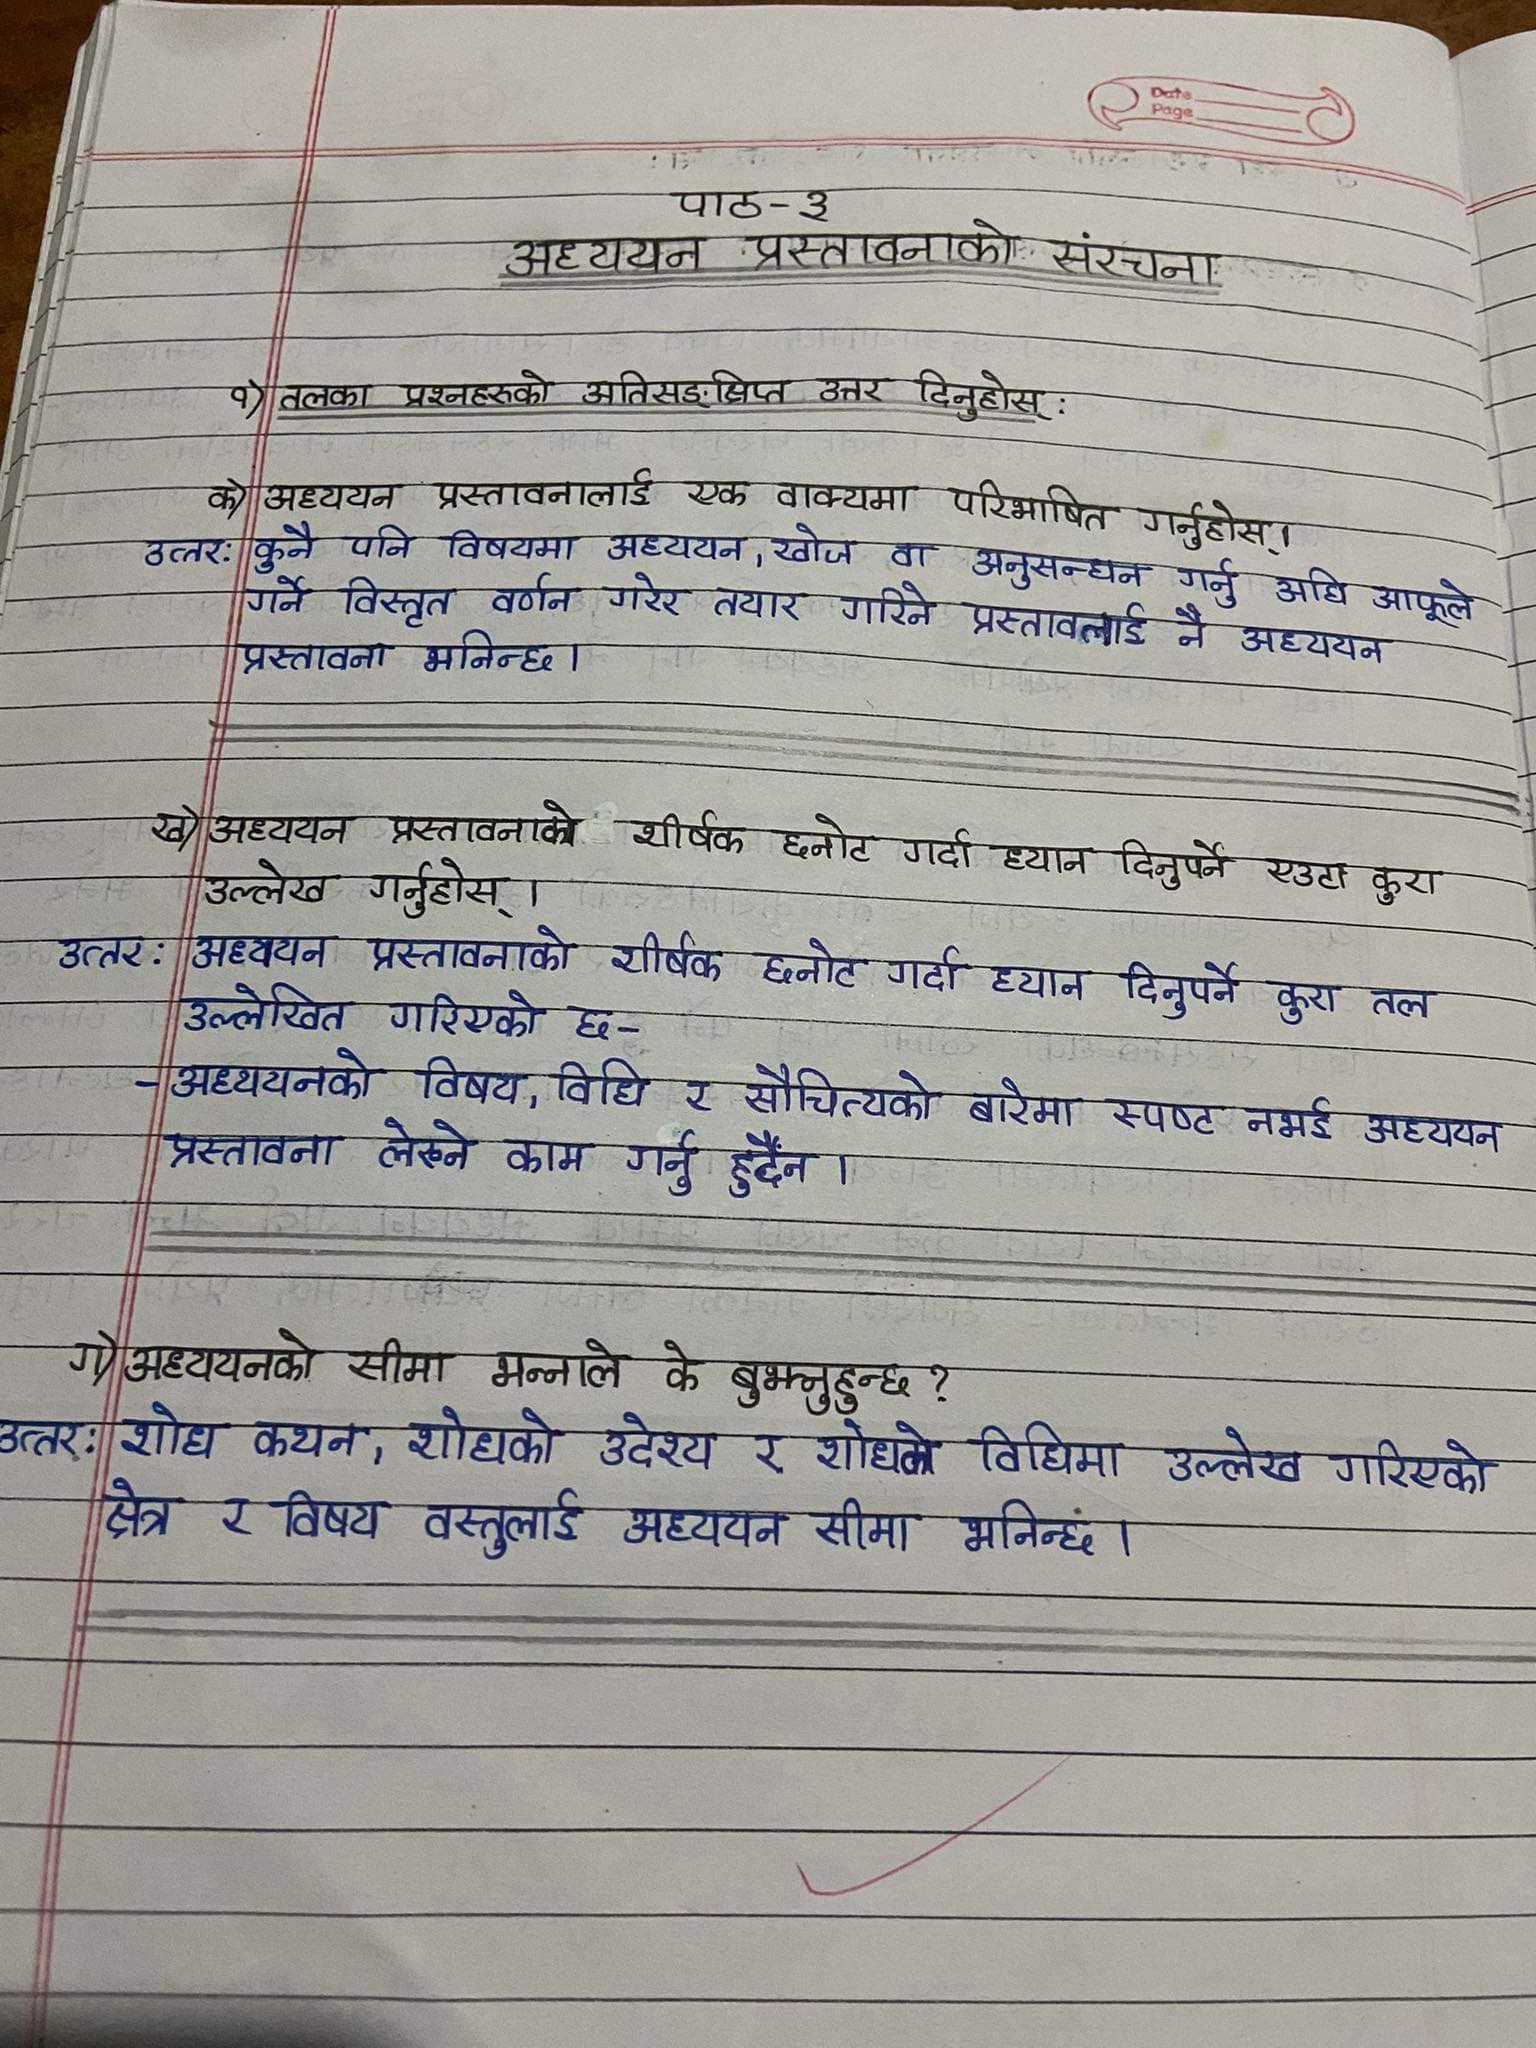text: (723, 1340, 920, 1417), (1328, 1429, 1501, 1508), (416, 1488, 594, 1563), (123, 1326, 315, 1392), (737, 1059, 934, 1122), (379, 800, 584, 856), (966, 1417, 1149, 1480), (741, 227, 1020, 268), (173, 1051, 384, 1105), (360, 924, 578, 976), (403, 1401, 561, 1471), (949, 1496, 1105, 1564), (1042, 231, 1220, 290), (1162, 1424, 1317, 1492), (942, 472, 1113, 534), (158, 1127, 353, 1180), (608, 1500, 795, 1555), (432, 469, 660, 513), (965, 597, 1146, 648), (1113, 951, 1241, 1024), (181, 985, 353, 1039), (358, 860, 520, 916), (812, 1417, 947, 1484), (1355, 1106, 1520, 1159), (578, 369, 783, 410), (481, 1337, 620, 1395), (971, 548, 1149, 593), (1110, 830, 1241, 892), (908, 366, 1047, 423), (591, 1413, 721, 1472), (416, 627, 558, 682), (381, 987, 541, 1035), (721, 1126, 820, 1203), (765, 808, 886, 871), (963, 1076, 1084, 1138), (244, 1411, 384, 1464), (1239, 622, 1392, 671), (274, 1488, 392, 1551), (611, 1127, 707, 1200), (1137, 497, 1284, 543), (342, 1335, 457, 1395), (336, 572, 458, 627), (753, 929, 857, 993), (192, 863, 337, 908), (113, 1405, 226, 1463), (495, 239, 708, 269), (1096, 1093, 1229, 1142), (411, 1050, 524, 1106), (236, 637, 392, 677), (607, 930, 733, 980), (812, 1496, 916, 1556), (437, 526, 581, 569), (373, 1116, 476, 1176), (1241, 1089, 1341, 1147), (771, 474, 915, 514), (603, 527, 747, 568), (211, 808, 355, 848), (983, 956, 1091, 1009), (189, 932, 337, 971), (98, 1480, 181, 1550), (399, 369, 552, 406), (831, 581, 950, 627), (632, 813, 750, 860), (497, 1129, 595, 1184), (1367, 576, 1481, 622), (547, 1061, 658, 1108), (879, 942, 971, 998), (1262, 847, 1354, 900), (58, 934, 160, 980), (707, 579, 808, 624), (992, 834, 1097, 877), (2, 1413, 87, 1464), (1270, 972, 1346, 1030), (1368, 861, 1455, 911), (258, 484, 399, 514), (895, 822, 978, 872), (597, 572, 687, 618), (653, 1330, 708, 1405), (1270, 568, 1355, 613), (768, 522, 855, 566), (668, 184, 763, 223), (490, 576, 578, 618), (1365, 977, 1444, 1022), (744, 1424, 795, 1490), (807, 371, 891, 410), (250, 522, 319, 569), (239, 574, 311, 616), (276, 377, 369, 410), (1178, 556, 1244, 601), (1165, 601, 1220, 655), (148, 534, 226, 571), (349, 521, 410, 561), (568, 998, 621, 1043), (219, 1490, 260, 1548), (686, 472, 745, 511), (139, 808, 194, 848), (61, 1338, 106, 1382), (792, 182, 839, 223), (881, 540, 945, 569), (681, 1069, 720, 1111), (207, 479, 242, 516), (227, 379, 260, 414)
